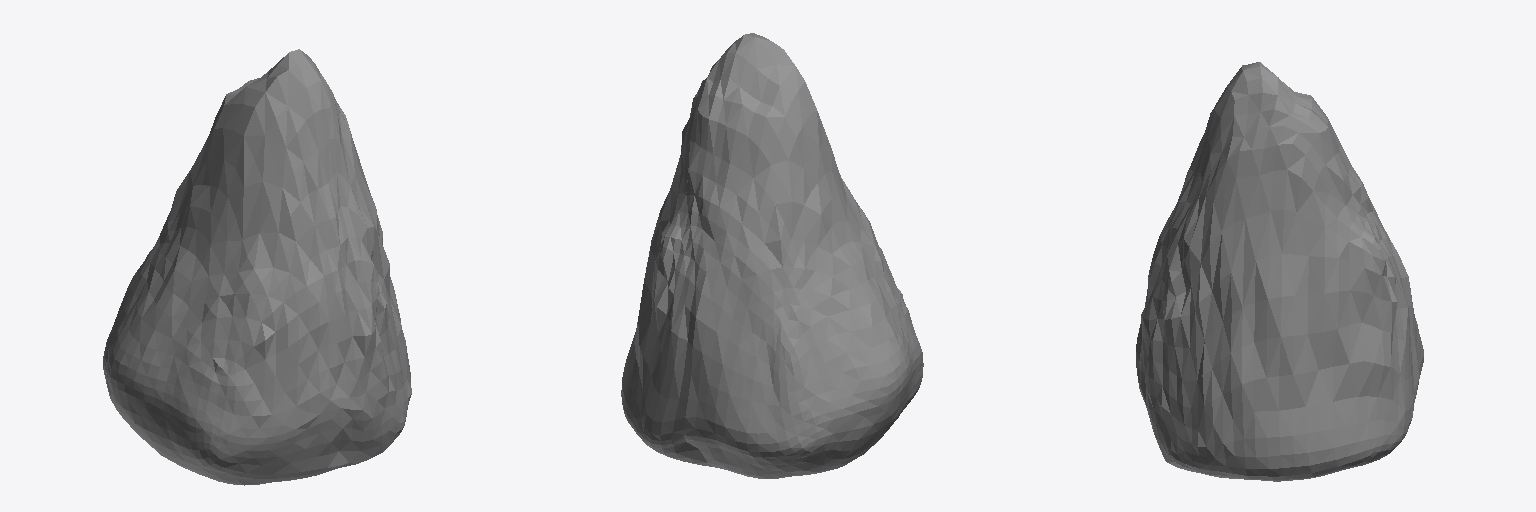
Rendered from rocks_01_model.obj.
3 renders of one model, left to right at view 1: azimuth 30°, elevation 25°; view 2: azimuth 150°, elevation 25°; view 3: azimuth 270°, elevation 25°, orthographic.
Parts seen in each view (by area): view 1: rock_01; view 2: rock_01; view 3: rock_01.
Part boxes in pixels (x1,y1,x2,y2): rock_01: (103,49,411,485); rock_01: (621,33,923,478); rock_01: (1136,62,1423,481).
Bounding box in the file's own units: 2.95 × 4.33 × 2.75.